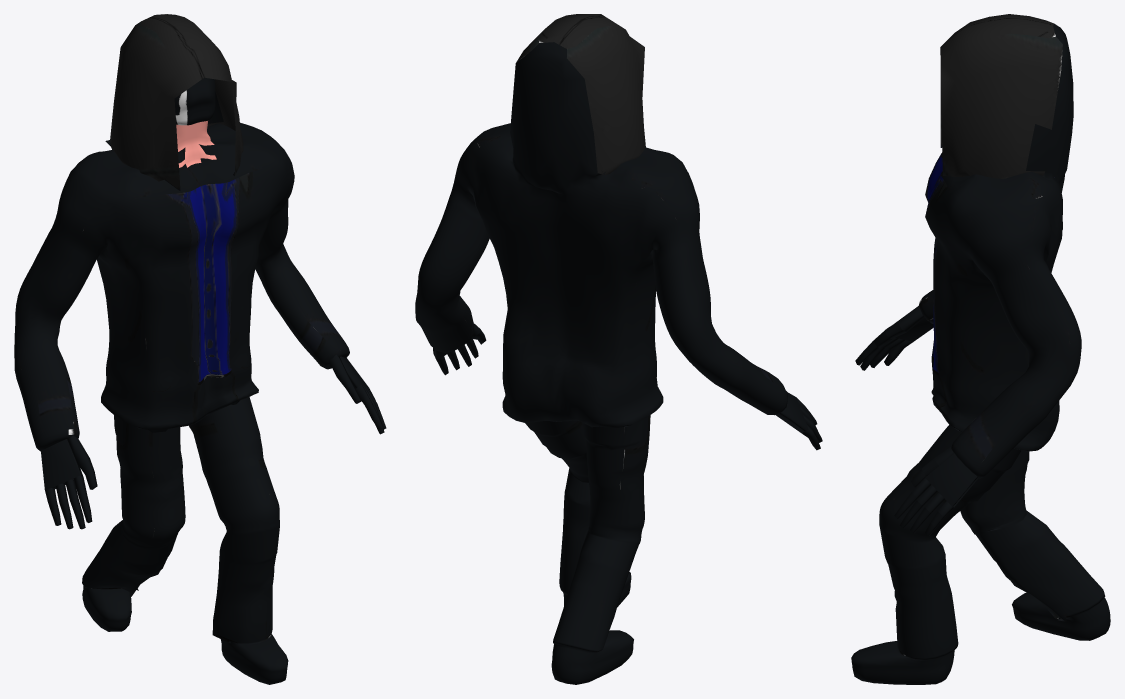
Rendered from keyFrame07.obj.
3 views of the same model, side by side, from view 1: azimuth 30°, elevation 25°; view 2: azimuth 150°, elevation 25°; view 3: azimuth 270°, elevation 25° (orthographic). The views are drawn at different scales.
Parts seen in each view (by area): view 1: pasted__polySurface71 group4; view 2: pasted__polySurface71 group4; view 3: pasted__polySurface71 group4.
Part boxes in pixels (<box>): pasted__polySurface71 group4: <box>14,14,386,684</box>; pasted__polySurface71 group4: <box>415,14,822,684</box>; pasted__polySurface71 group4: <box>851,14,1110,684</box>.
Bounding box in the file's own units: 7.42 × 12.57 × 4.58.
